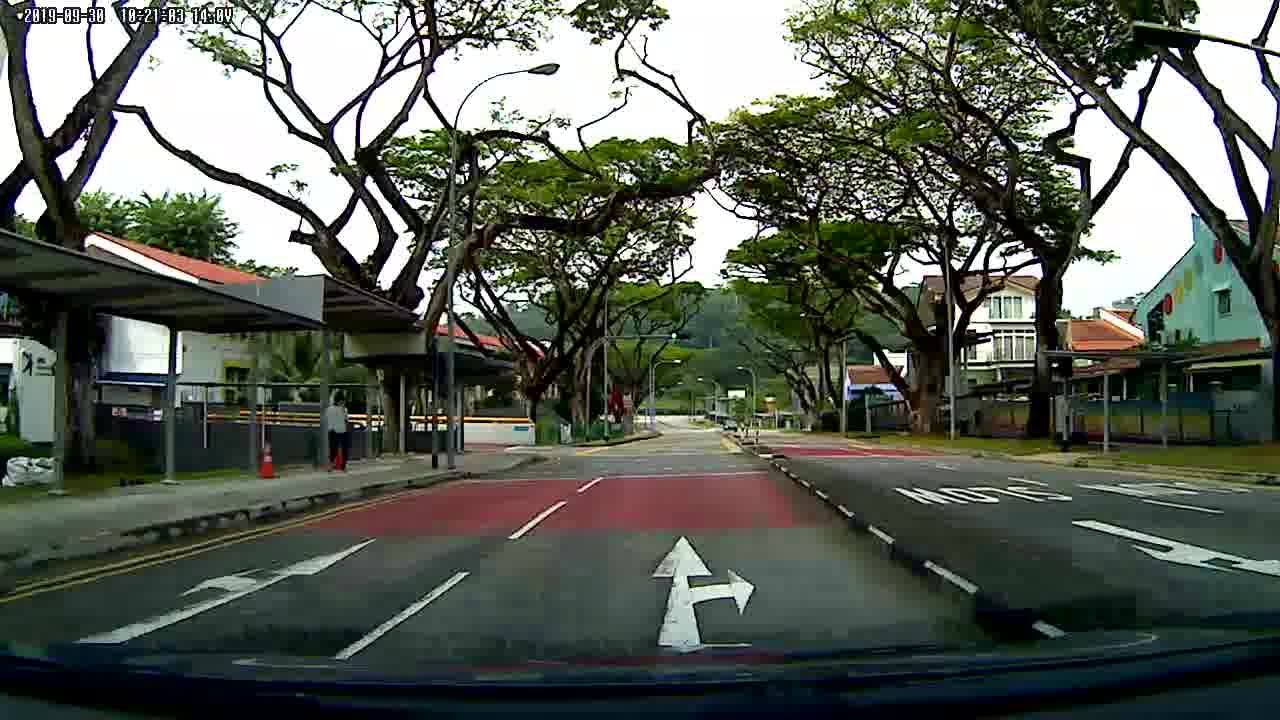car: (720, 417, 742, 435)
